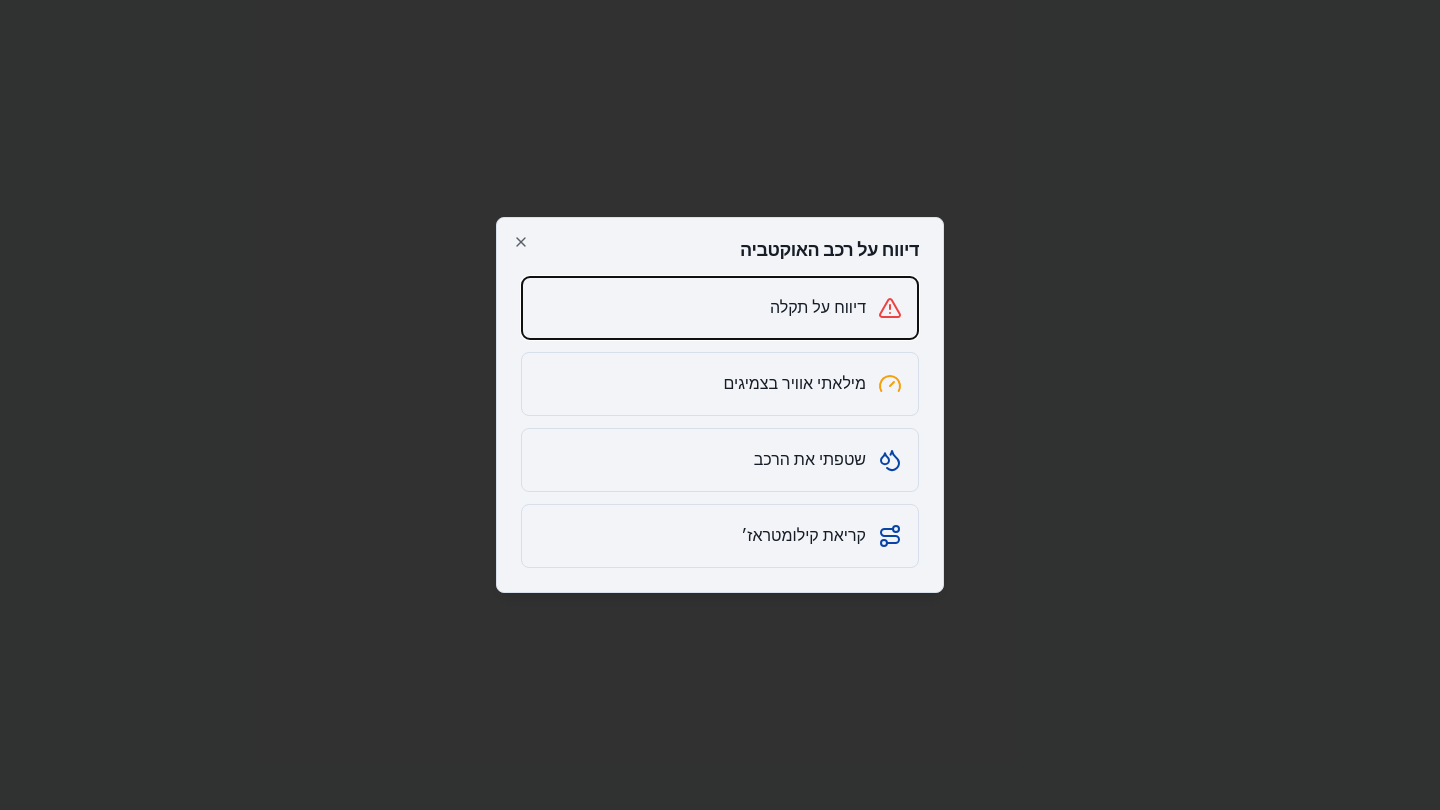
Test: CarReportDialog › blocks the problem submit until a category is chosen
The width and height of the screenshot is (1440, 810).
Click the button "דיווח על תקלה": (818, 308) [521,276,919,340]
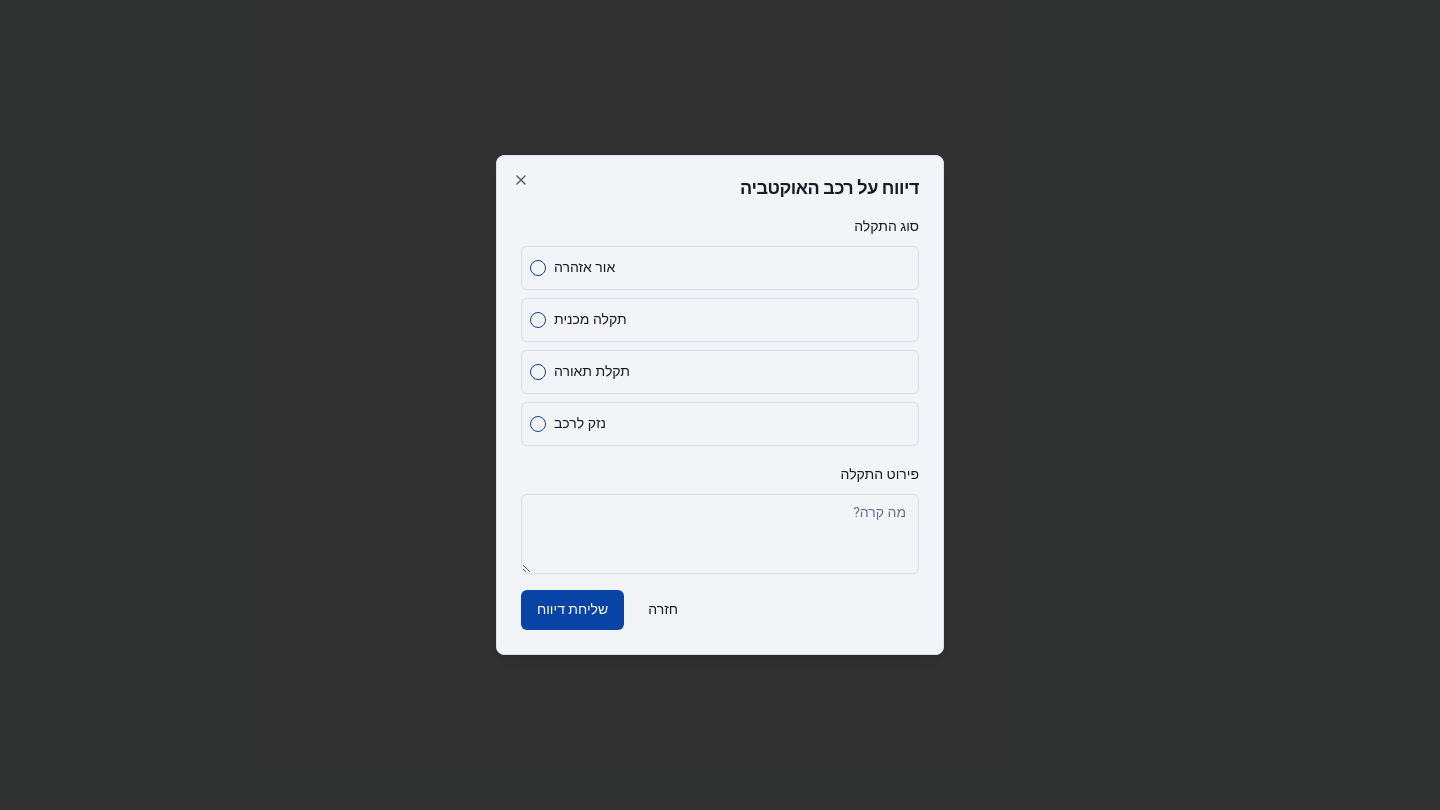
In the text box with placeholder "מה קרה?": (720, 534) [521,494,919,574], type "Something's wrong"
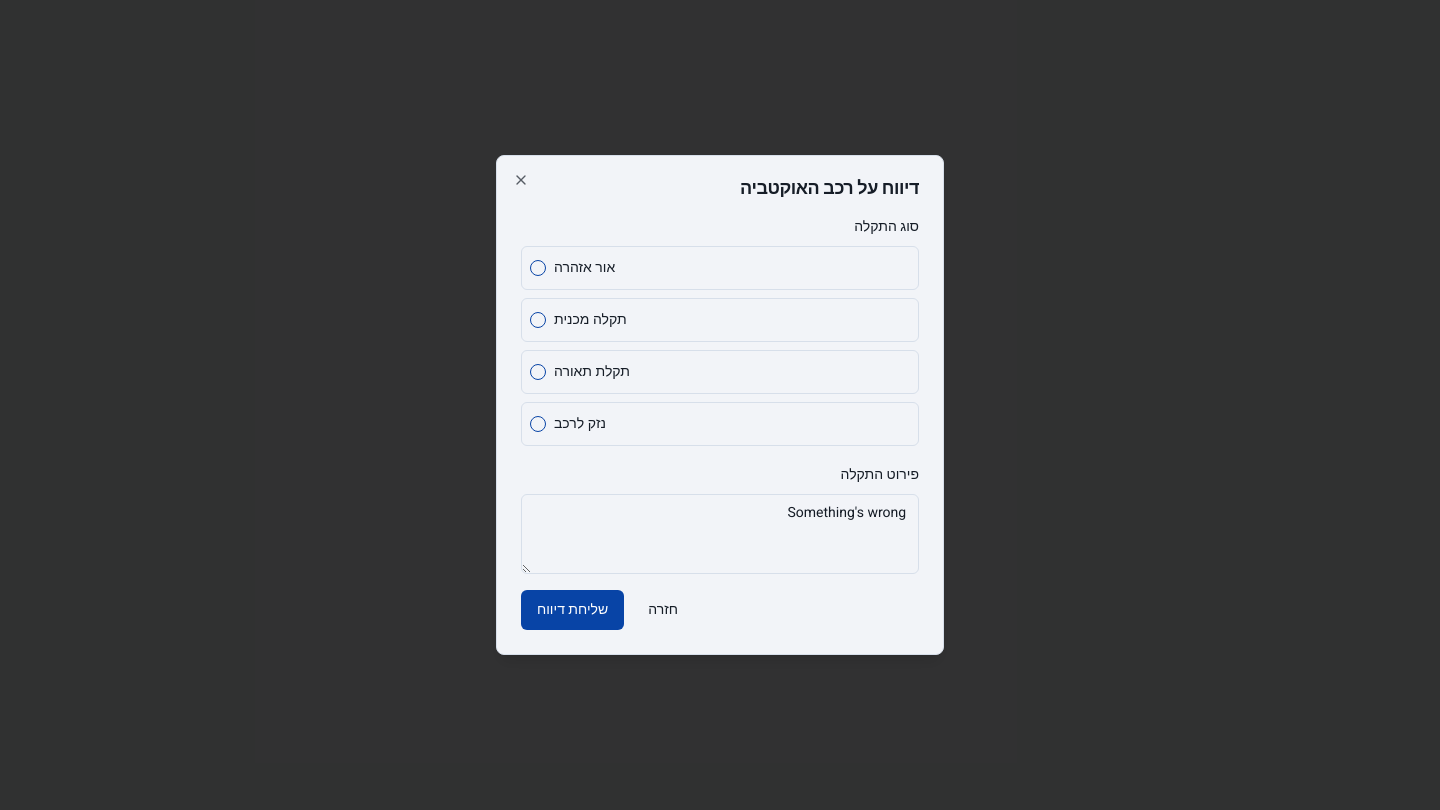
Click the button "שליחת דיווח": (573, 610) [521,590,624,630]
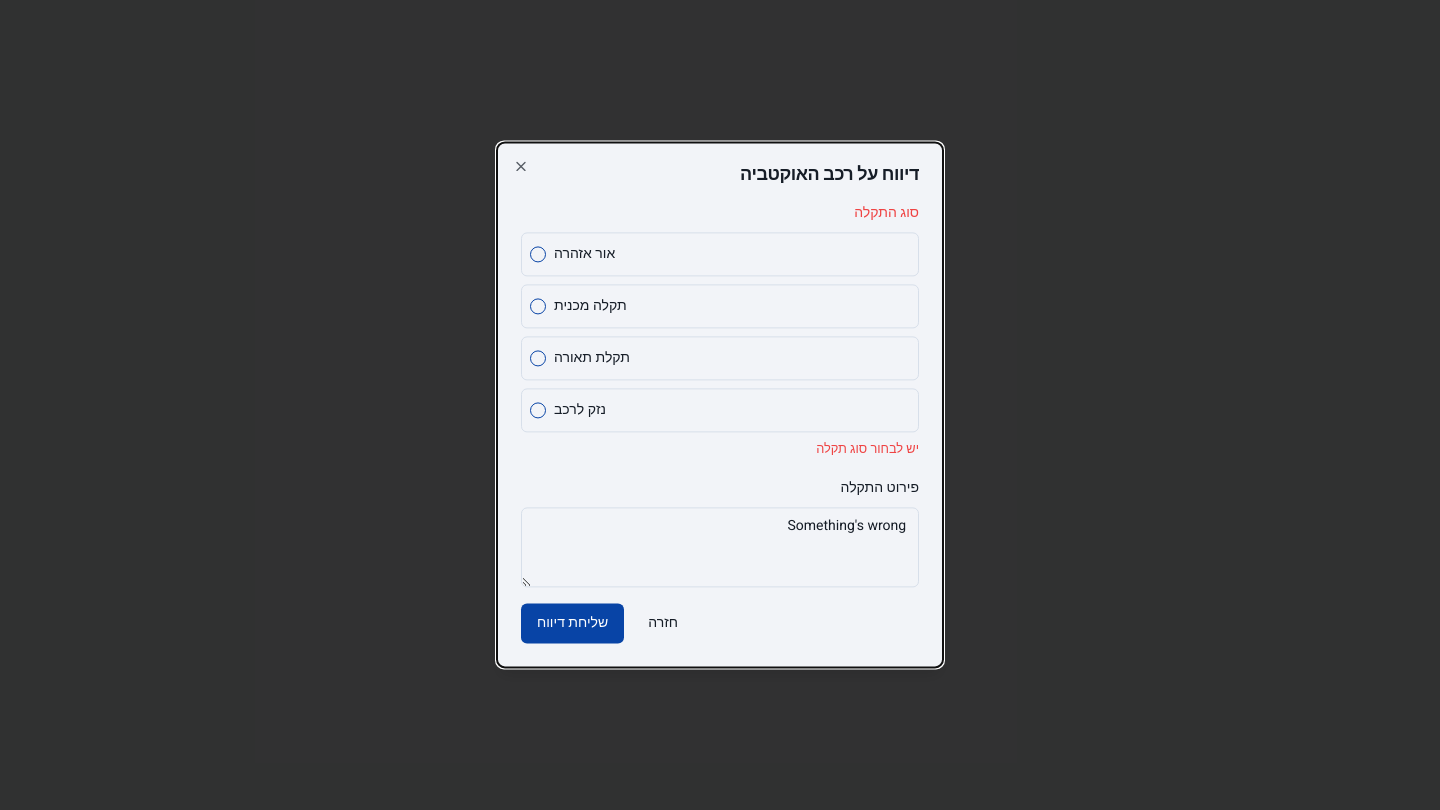
Result: the text "יש לבחור סוג תקלה" is shown at [816,440,919,458]
